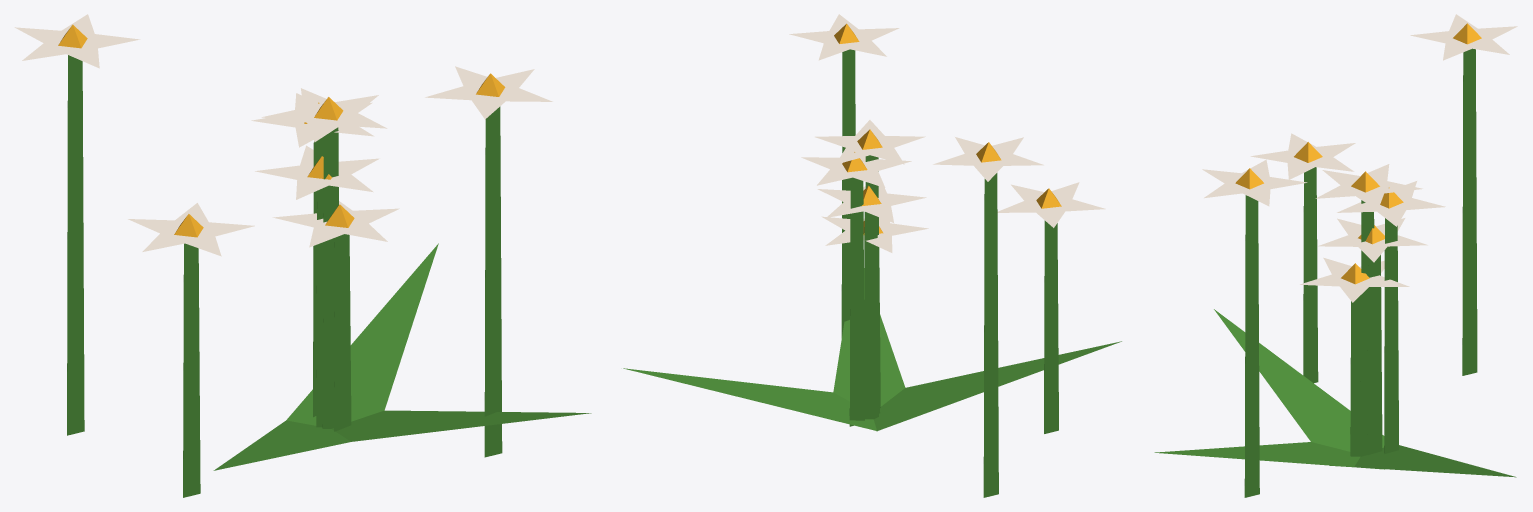
File: Meadow_Flowers2.fbx
3 views of the same model, side by side, from view 1: azimuth 30°, elevation 25°; view 2: azimuth 150°, elevation 25°; view 3: azimuth 270°, elevation 25° (orthographic). The views are drawn at different scales.
Parts seen in each view (by area): view 1: Meadow_Flowers2; view 2: Meadow_Flowers2; view 3: Meadow_Flowers2.
Boxes of the visible parts, bbox=[...] form: Meadow_Flowers2: bbox=[14, 14, 591, 497]; Meadow_Flowers2: bbox=[623, 14, 1121, 497]; Meadow_Flowers2: bbox=[1154, 14, 1517, 497].
Size of the model in its own units: 0.5367 by 0.4605 by 0.4375.
